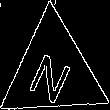N_NE: (27, 39, 80, 103)
